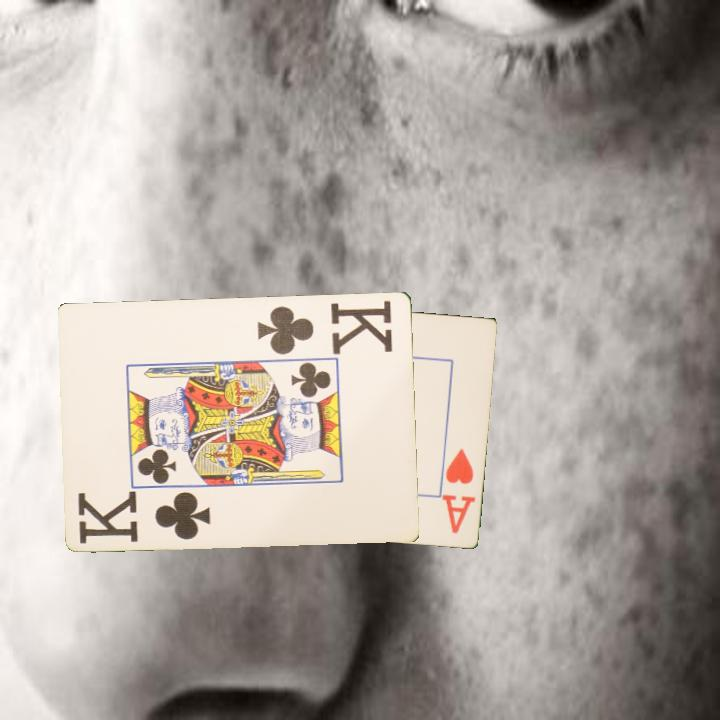Ah: (440, 445, 478, 536)
Kc: (254, 296, 396, 357), (74, 487, 214, 546)
